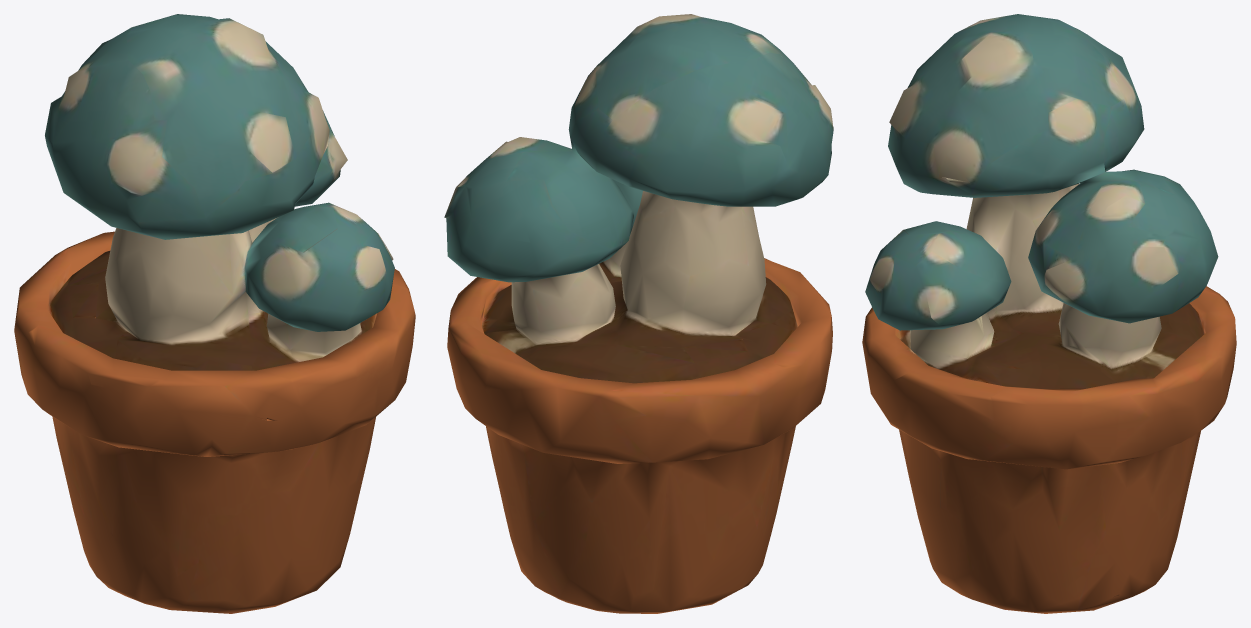
Rendered from f-glowshroom.glb.
3 views of the same model, side by side, from view 1: azimuth 30°, elevation 25°; view 2: azimuth 150°, elevation 25°; view 3: azimuth 270°, elevation 25° (orthographic). The views are drawn at different scales.
Visible parts, largest first — view 1: tripo_node_c2a9bf41-8307-4d05-ba14-5c6c2921f5f9; view 2: tripo_node_c2a9bf41-8307-4d05-ba14-5c6c2921f5f9; view 3: tripo_node_c2a9bf41-8307-4d05-ba14-5c6c2921f5f9.
Part boxes in pixels (<box>): tripo_node_c2a9bf41-8307-4d05-ba14-5c6c2921f5f9: <box>14,14,415,613</box>; tripo_node_c2a9bf41-8307-4d05-ba14-5c6c2921f5f9: <box>444,14,833,613</box>; tripo_node_c2a9bf41-8307-4d05-ba14-5c6c2921f5f9: <box>862,14,1236,613</box>.
Bounding box in the file's own units: 0.6475 × 1 × 0.6474.
Materials: 1 (1 with a texture image).
